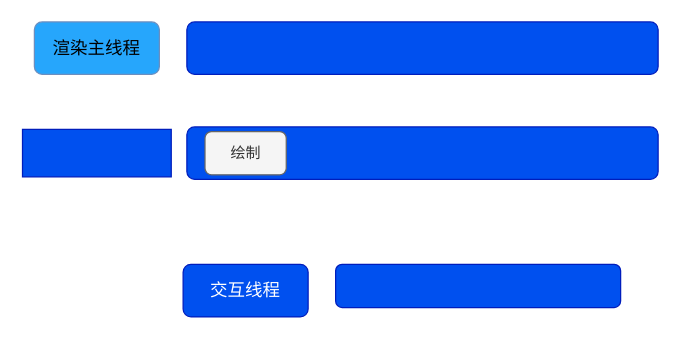
This 680x339 diagram has some shape labels left out. Here are the shapes that lost their labels. From the top down, the box of each, then its label:
(21, 128, 171, 177): 消息队列 message queue
(334, 263, 621, 308): 监听按钮点击，点击后执行 fn
